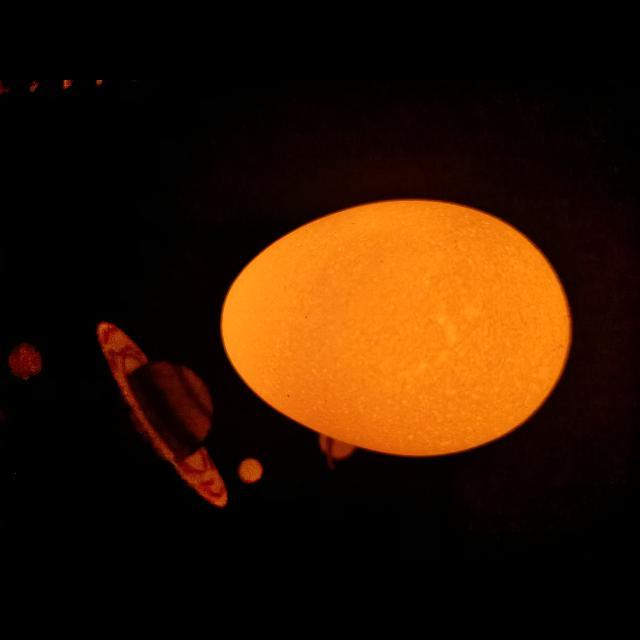AA - Premium: (221, 200, 571, 456)
